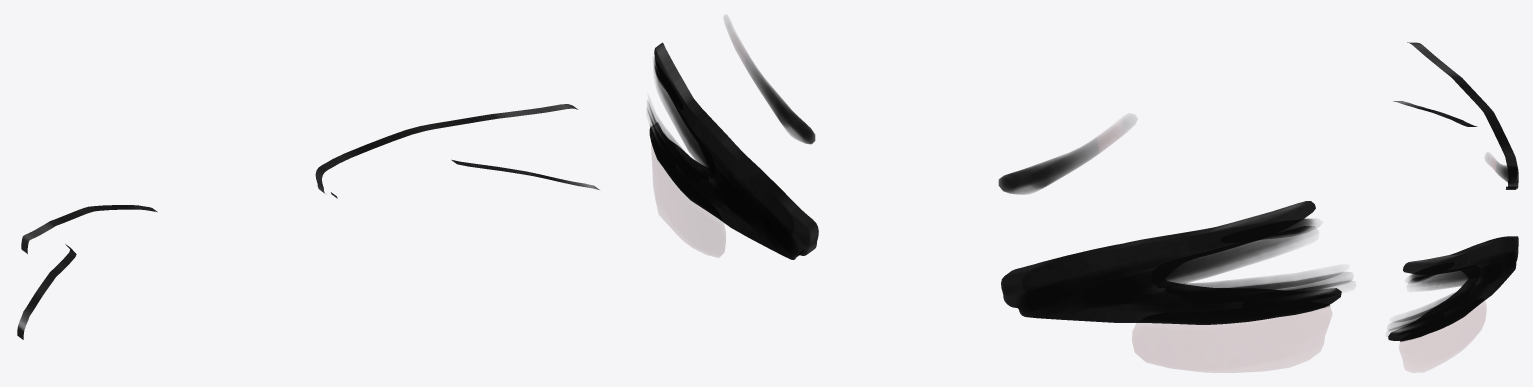
Rendered from 21-Silly-eyes.glb.
The picture shows the model from 3 angles, left to right: view 1: azimuth 30°, elevation 25°; view 2: azimuth 150°, elevation 25°; view 3: azimuth 270°, elevation 25°; orthographic projection. The views are drawn at different scales.
Parts seen in each view (by area): view 1: 21-Silly-eyes; view 2: 21-Silly-eyes; view 3: 21-Silly-eyes.
Part boxes in pixels (x1,y1,x2,y2): 21-Silly-eyes: (17, 104, 599, 339); 21-Silly-eyes: (647, 16, 1352, 372); 21-Silly-eyes: (1388, 42, 1518, 372).
Size of the model in its own units: 0.9468 by 0.3339 by 0.2205.
Materials: 16 (16 with a texture image).
